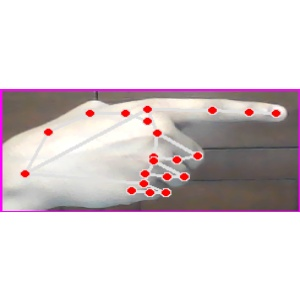G: (1, 91, 300, 212)
